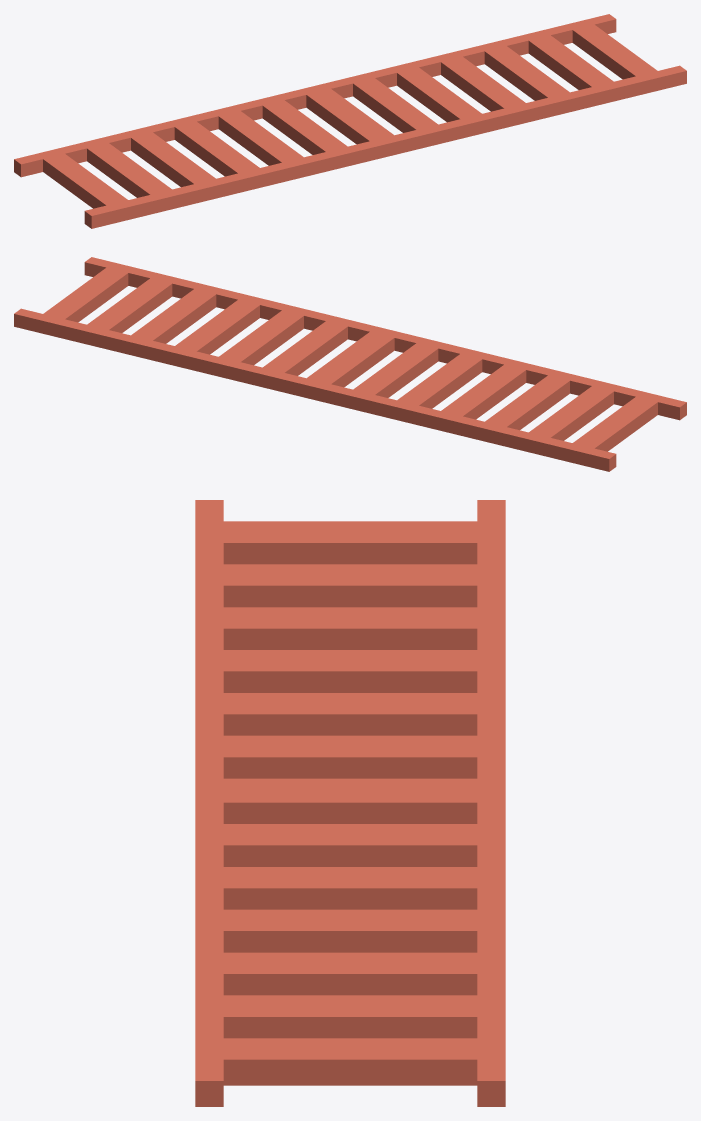
File: Bridge2.fbx
The picture shows the model from 3 angles, top to bottom: view 1: azimuth 30°, elevation 25°; view 2: azimuth 150°, elevation 25°; view 3: azimuth 270°, elevation 25°; orthographic projection. The views are drawn at different scales.
Parts seen in each view (by area): view 1: Cube; view 2: Cube; view 3: Cube.
Part boxes in pixels (<box>): Cube: <box>14,14,686,228</box>; Cube: <box>14,257,686,471</box>; Cube: <box>195,500,505,1106</box>.
Size of the model in its own units: 2754 by 57.02 by 622.
